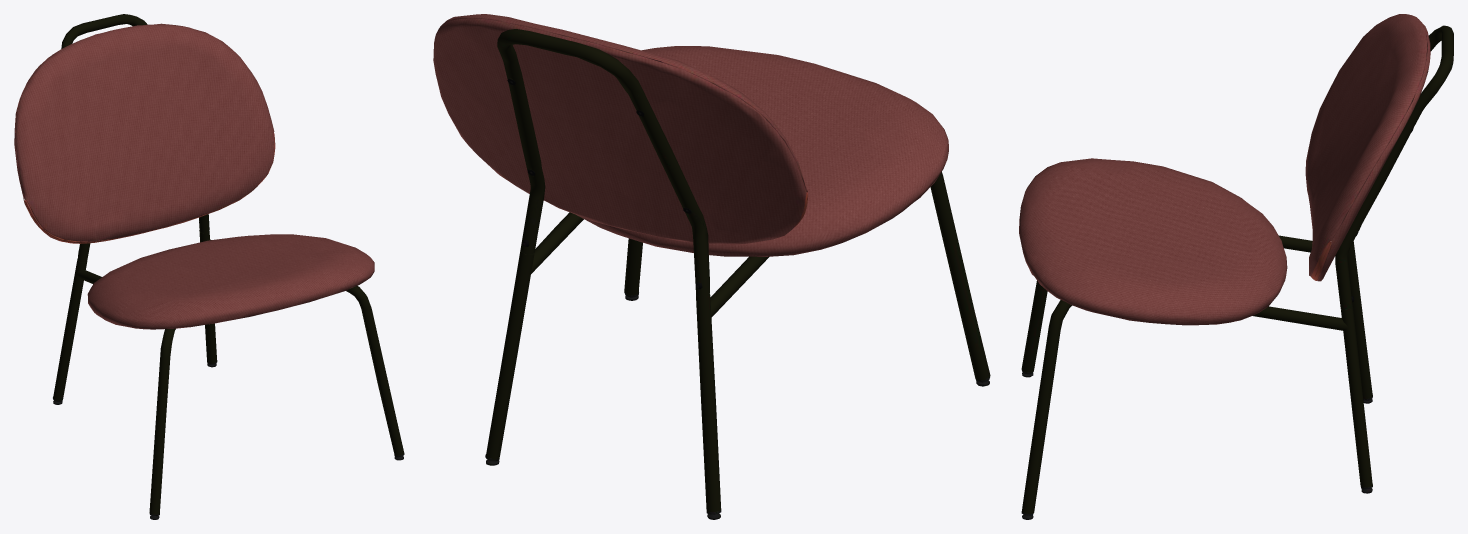
File: gavle_fotel_30588838.glb
3 views of the same model, side by side, from view 1: azimuth 30°, elevation 25°; view 2: azimuth 150°, elevation 25°; view 3: azimuth 270°, elevation 25° (orthographic). The views are drawn at different scales.
Visible parts, largest first — view 1: gavle_fotel_30588838; view 2: gavle_fotel_30588838; view 3: gavle_fotel_30588838.
Part boxes in pixels (<box>): gavle_fotel_30588838: <box>14,14,404,519</box>; gavle_fotel_30588838: <box>433,14,990,519</box>; gavle_fotel_30588838: <box>1019,14,1453,519</box>.
Size of the model in its own units: 0.5486 by 0.7011 by 0.6804.
Materials: 1 (1 with a texture image).
